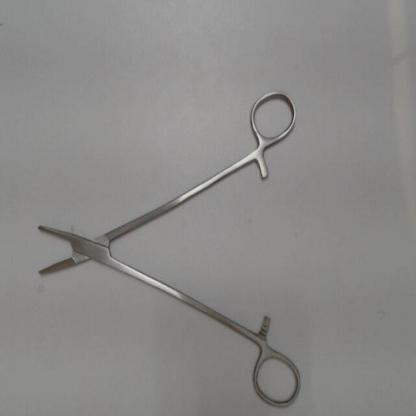8 Mayo Needle Holder: (27, 84, 309, 416)
